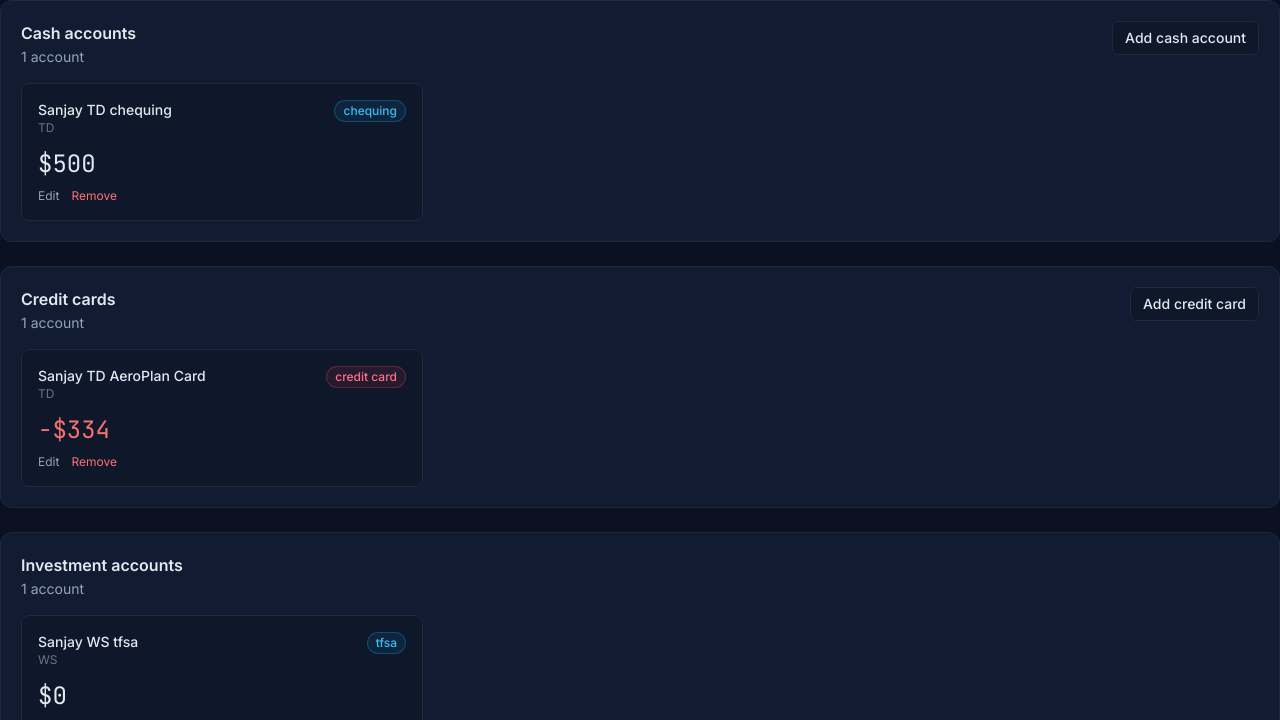
Scenario: Accounts page › warns that deleting an account takes its transactions with it
Click the button "Remove" below "$500". click: click(94, 196)
box: [71,188,117,204]
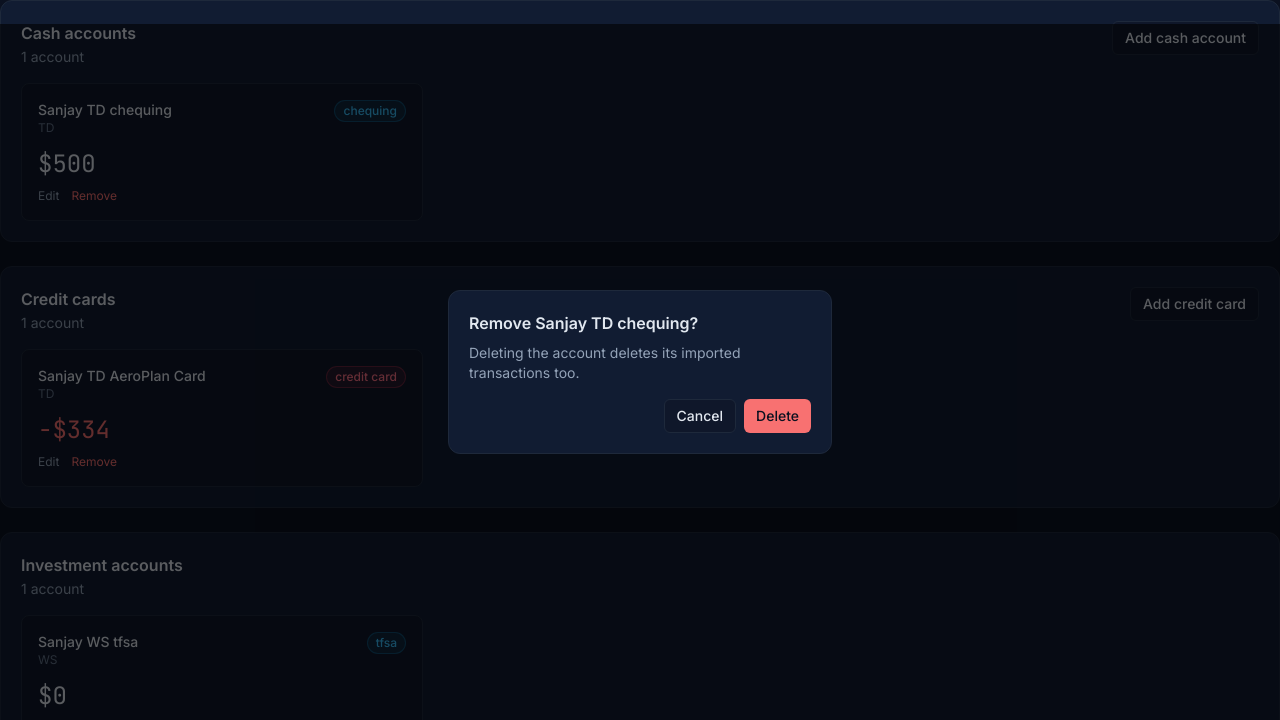
Result: the text "deletes its imported transactions too" is shown at [469,344,740,381]
